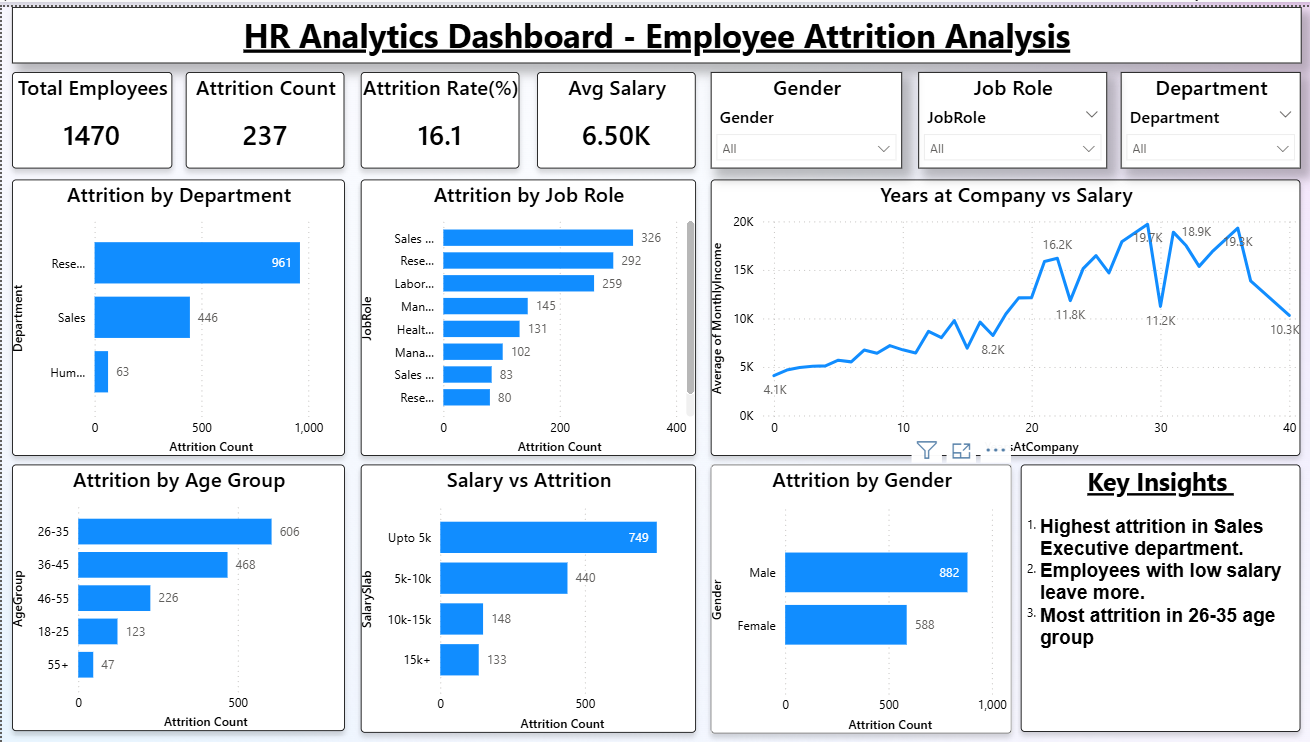

The page's visual inventory and layout, read from the dashboard file:
{"tool":"powerbi","page":{"name":"Page 2","canvas":[1280,720],"ordinal":0},"visuals":[{"type":"textbox","box":[9.8,0,1262,55],"z":0},{"type":"card","title":"Attrition Count","fields":{"Values":["Sum(HR_Analytics.Attrition Count)"]},"box":[179.8,63.6,155.3,94.2],"z":1000},{"type":"card","title":"Total Employees","fields":{"Values":["CountNonNull(HR_Analytics.EmpID)"]},"box":[9.8,63.6,156.5,94.2],"z":2000},{"type":"card","title":"Attrition Rate(%)","fields":{"Values":["Avg(HR_Analytics.Attrition Rate)"]},"box":[351,63.6,155.3,94.2],"z":3000},{"type":"card","title":"Avg Salary","fields":{"Values":["Avg(HR_Analytics.MonthlyIncome)"]},"box":[523.4,63.6,155.3,94.2],"z":4000},{"type":"clusteredBarChart","title":"Attrition by Department","fields":{"Category":["HR_Analytics.Department"],"Y":["CountNonNull(HR_Analytics.Attrition Count)"]},"box":[9.8,168.8,325.3,270.2],"z":5000},{"type":"clusteredBarChart","title":"Attrition by Job Role","fields":{"Category":["HR_Analytics.JobRole"],"Y":["CountNonNull(HR_Analytics.Attrition Count)"]},"box":[351,168.8,327.7,270.2],"z":6000},{"type":"clusteredBarChart","title":"Attrition by Age Group","fields":{"Category":["HR_Analytics.AgeGroup"],"Y":["CountNonNull(HR_Analytics.Attrition Count)"]},"box":[10,448,325.7,260.8],"z":7000},{"type":"clusteredBarChart","title":"Salary vs Attrition","fields":{"Category":["HR_Analytics.SalarySlab"],"Y":["CountNonNull(HR_Analytics.Attrition Count)"]},"box":[350.6,448,328.2,262],"z":8000},{"type":"lineChart","title":"Years at Company vs Salary","fields":{"Category":["HR_Analytics.YearsAtCompany"],"Y":["Avg(HR_Analytics.MonthlyIncome)"]},"box":[693.3,168.8,577.2,270.2],"z":9000},{"type":"clusteredBarChart","title":"Attrition by Gender","fields":{"Category":["HR_Analytics.Gender"],"Y":["CountNonNull(HR_Analytics.Attrition Count)"]},"box":[693.3,447.6,294.7,262.9],"z":10000},{"type":"slicer","title":"Department","fields":{"Values":["HR_Analytics.Department"]},"box":[1094.4,63.6,176.1,94.2],"z":11000},{"type":"slicer","title":"Job Role","fields":{"Values":["HR_Analytics.JobRole"]},"box":[896.3,63.6,184.6,94.2],"z":12000},{"type":"slicer","title":"Gender","fields":{"Values":["HR_Analytics.Gender"]},"box":[693.3,63.6,187.1,94.2],"z":13000},{"type":"textbox","box":[996.6,447.6,273.9,261.7],"z":14000}]}

Visuals, with their boxes in screenshot pixels (x1, y1, x2, y2), scaled from the page's 1280x720 canvas onto the 1310x742 screenshot:
textbox: [10,0,1302,57]
"Attrition Count" card: [184,66,343,163]
"Total Employees" card: [10,66,170,163]
"Attrition Rate(%)" card: [359,66,518,163]
"Avg Salary" card: [536,66,695,163]
"Attrition by Department" clusteredBarChart: [10,174,343,452]
"Attrition by Job Role" clusteredBarChart: [359,174,695,452]
"Attrition by Age Group" clusteredBarChart: [10,462,344,730]
"Salary vs Attrition" clusteredBarChart: [359,462,695,732]
"Years at Company vs Salary" lineChart: [710,174,1300,452]
"Attrition by Gender" clusteredBarChart: [710,461,1011,732]
"Department" slicer: [1120,66,1300,163]
"Job Role" slicer: [917,66,1106,163]
"Gender" slicer: [710,66,901,163]
textbox: [1020,461,1300,731]
